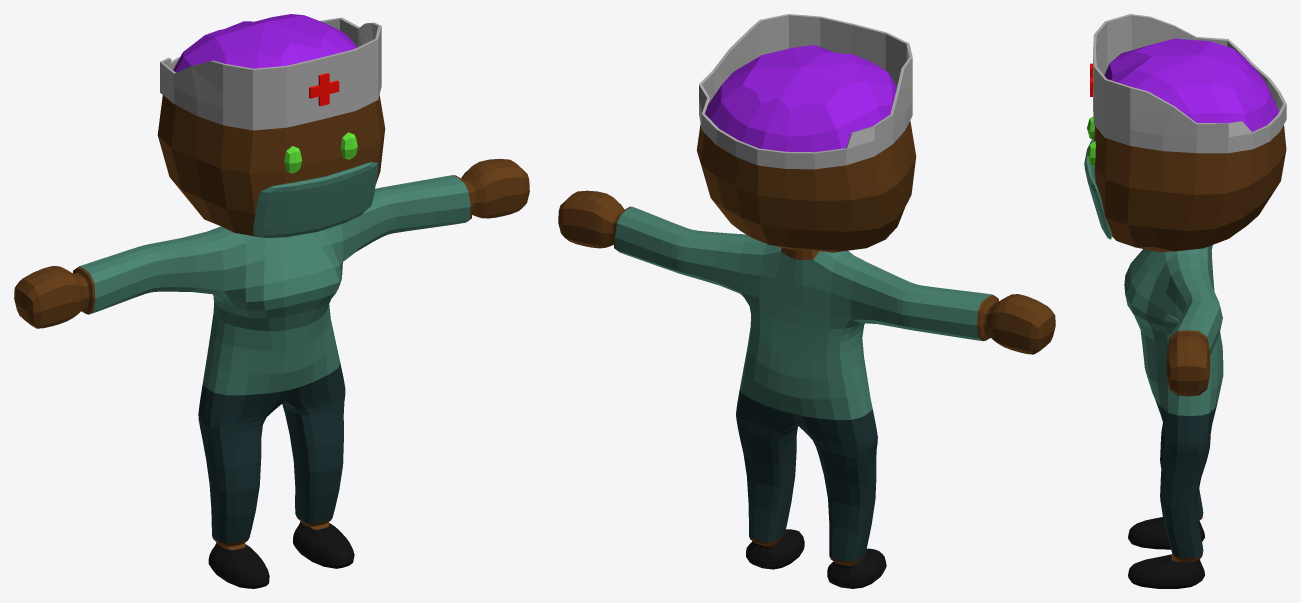
The model's file is Nurse.fbx.
3 views of the same model, side by side, from view 1: azimuth 30°, elevation 25°; view 2: azimuth 150°, elevation 25°; view 3: azimuth 270°, elevation 25° (orthographic). The views are drawn at different scales.
Visible parts, largest first — view 1: Nurse, Cube.001, Cube; view 2: Nurse; view 3: Nurse, Cube.001, Cube.
Boxes of the visible parts, box(x1,y1,x2,y2) form: Nurse: box(14, 14, 529, 588); Cube.001: box(253, 162, 378, 237); Cube: box(284, 132, 357, 173); Nurse: box(558, 14, 1055, 588); Nurse: box(1093, 14, 1286, 588); Cube.001: box(1084, 139, 1111, 239); Cube: box(1087, 116, 1095, 166).
Bounding box in the file's own units: 316 × 323 × 116.
